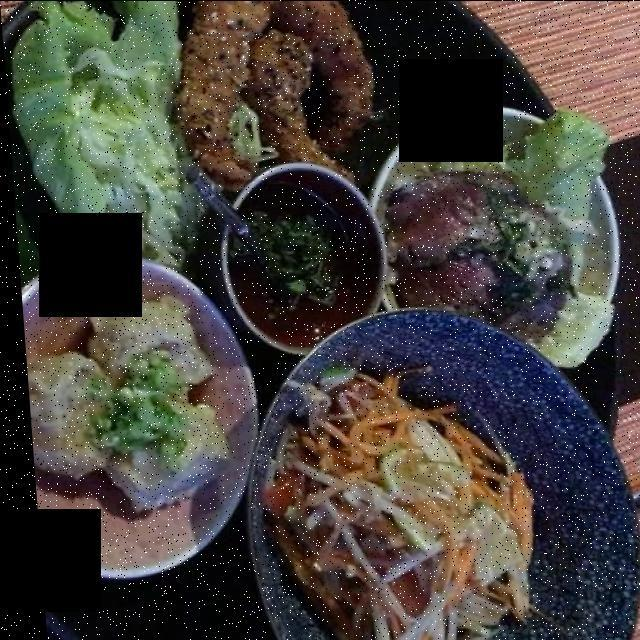beef: (393, 163, 566, 336)
carrot: (327, 386, 516, 596)
salad: (13, 16, 199, 259)
sauce: (228, 181, 337, 325)
shrimp: (184, 3, 380, 184)
sprouts: (310, 460, 518, 622)
